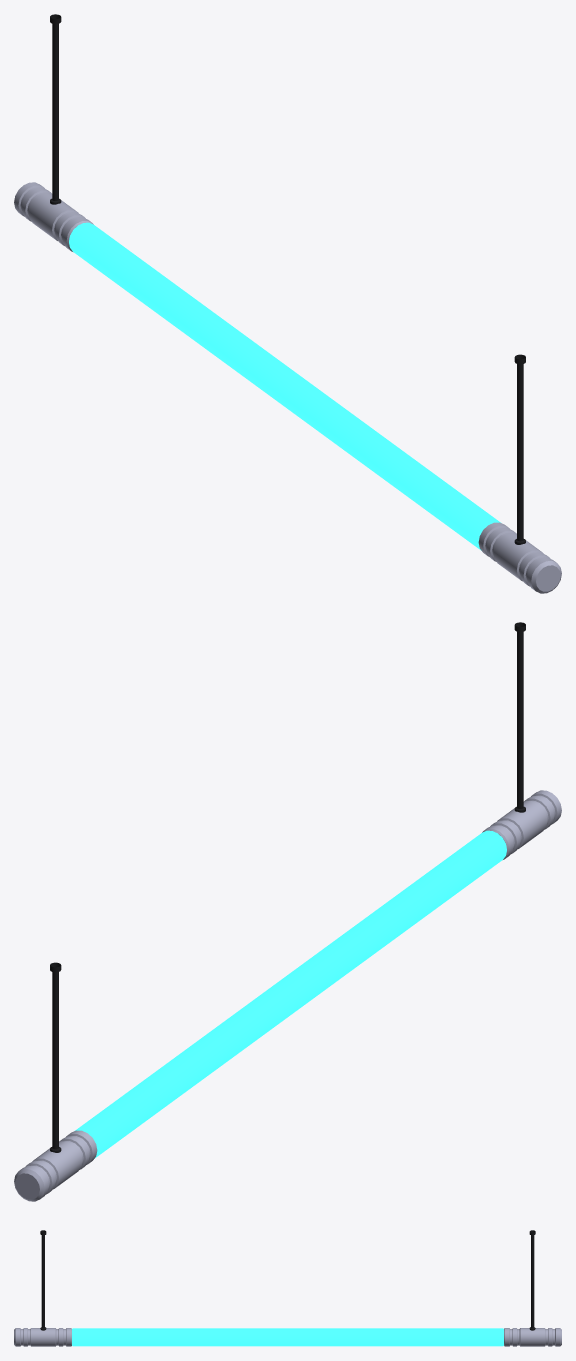
The model's file is Light_Tube_01_Single.fbx.
The picture shows the model from 3 angles, top to bottom: view 1: azimuth 30°, elevation 25°; view 2: azimuth 150°, elevation 25°; view 3: azimuth 270°, elevation 25°; orthographic projection. The views are drawn at different scales.
Parts seen in each view (by area): view 1: Light_Tube_01_Single.001; view 2: Light_Tube_01_Single.001; view 3: Light_Tube_01_Single.001.
Boxes of the visible parts, x1,y1,x2,y2 form: Light_Tube_01_Single.001: [14, 14, 561, 593]; Light_Tube_01_Single.001: [14, 622, 561, 1201]; Light_Tube_01_Single.001: [14, 1230, 561, 1346].
Bounding box in the file's own units: 0.0729 × 0.492 × 2.14.
